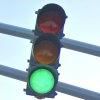traffic lights: (27, 5, 66, 98)
